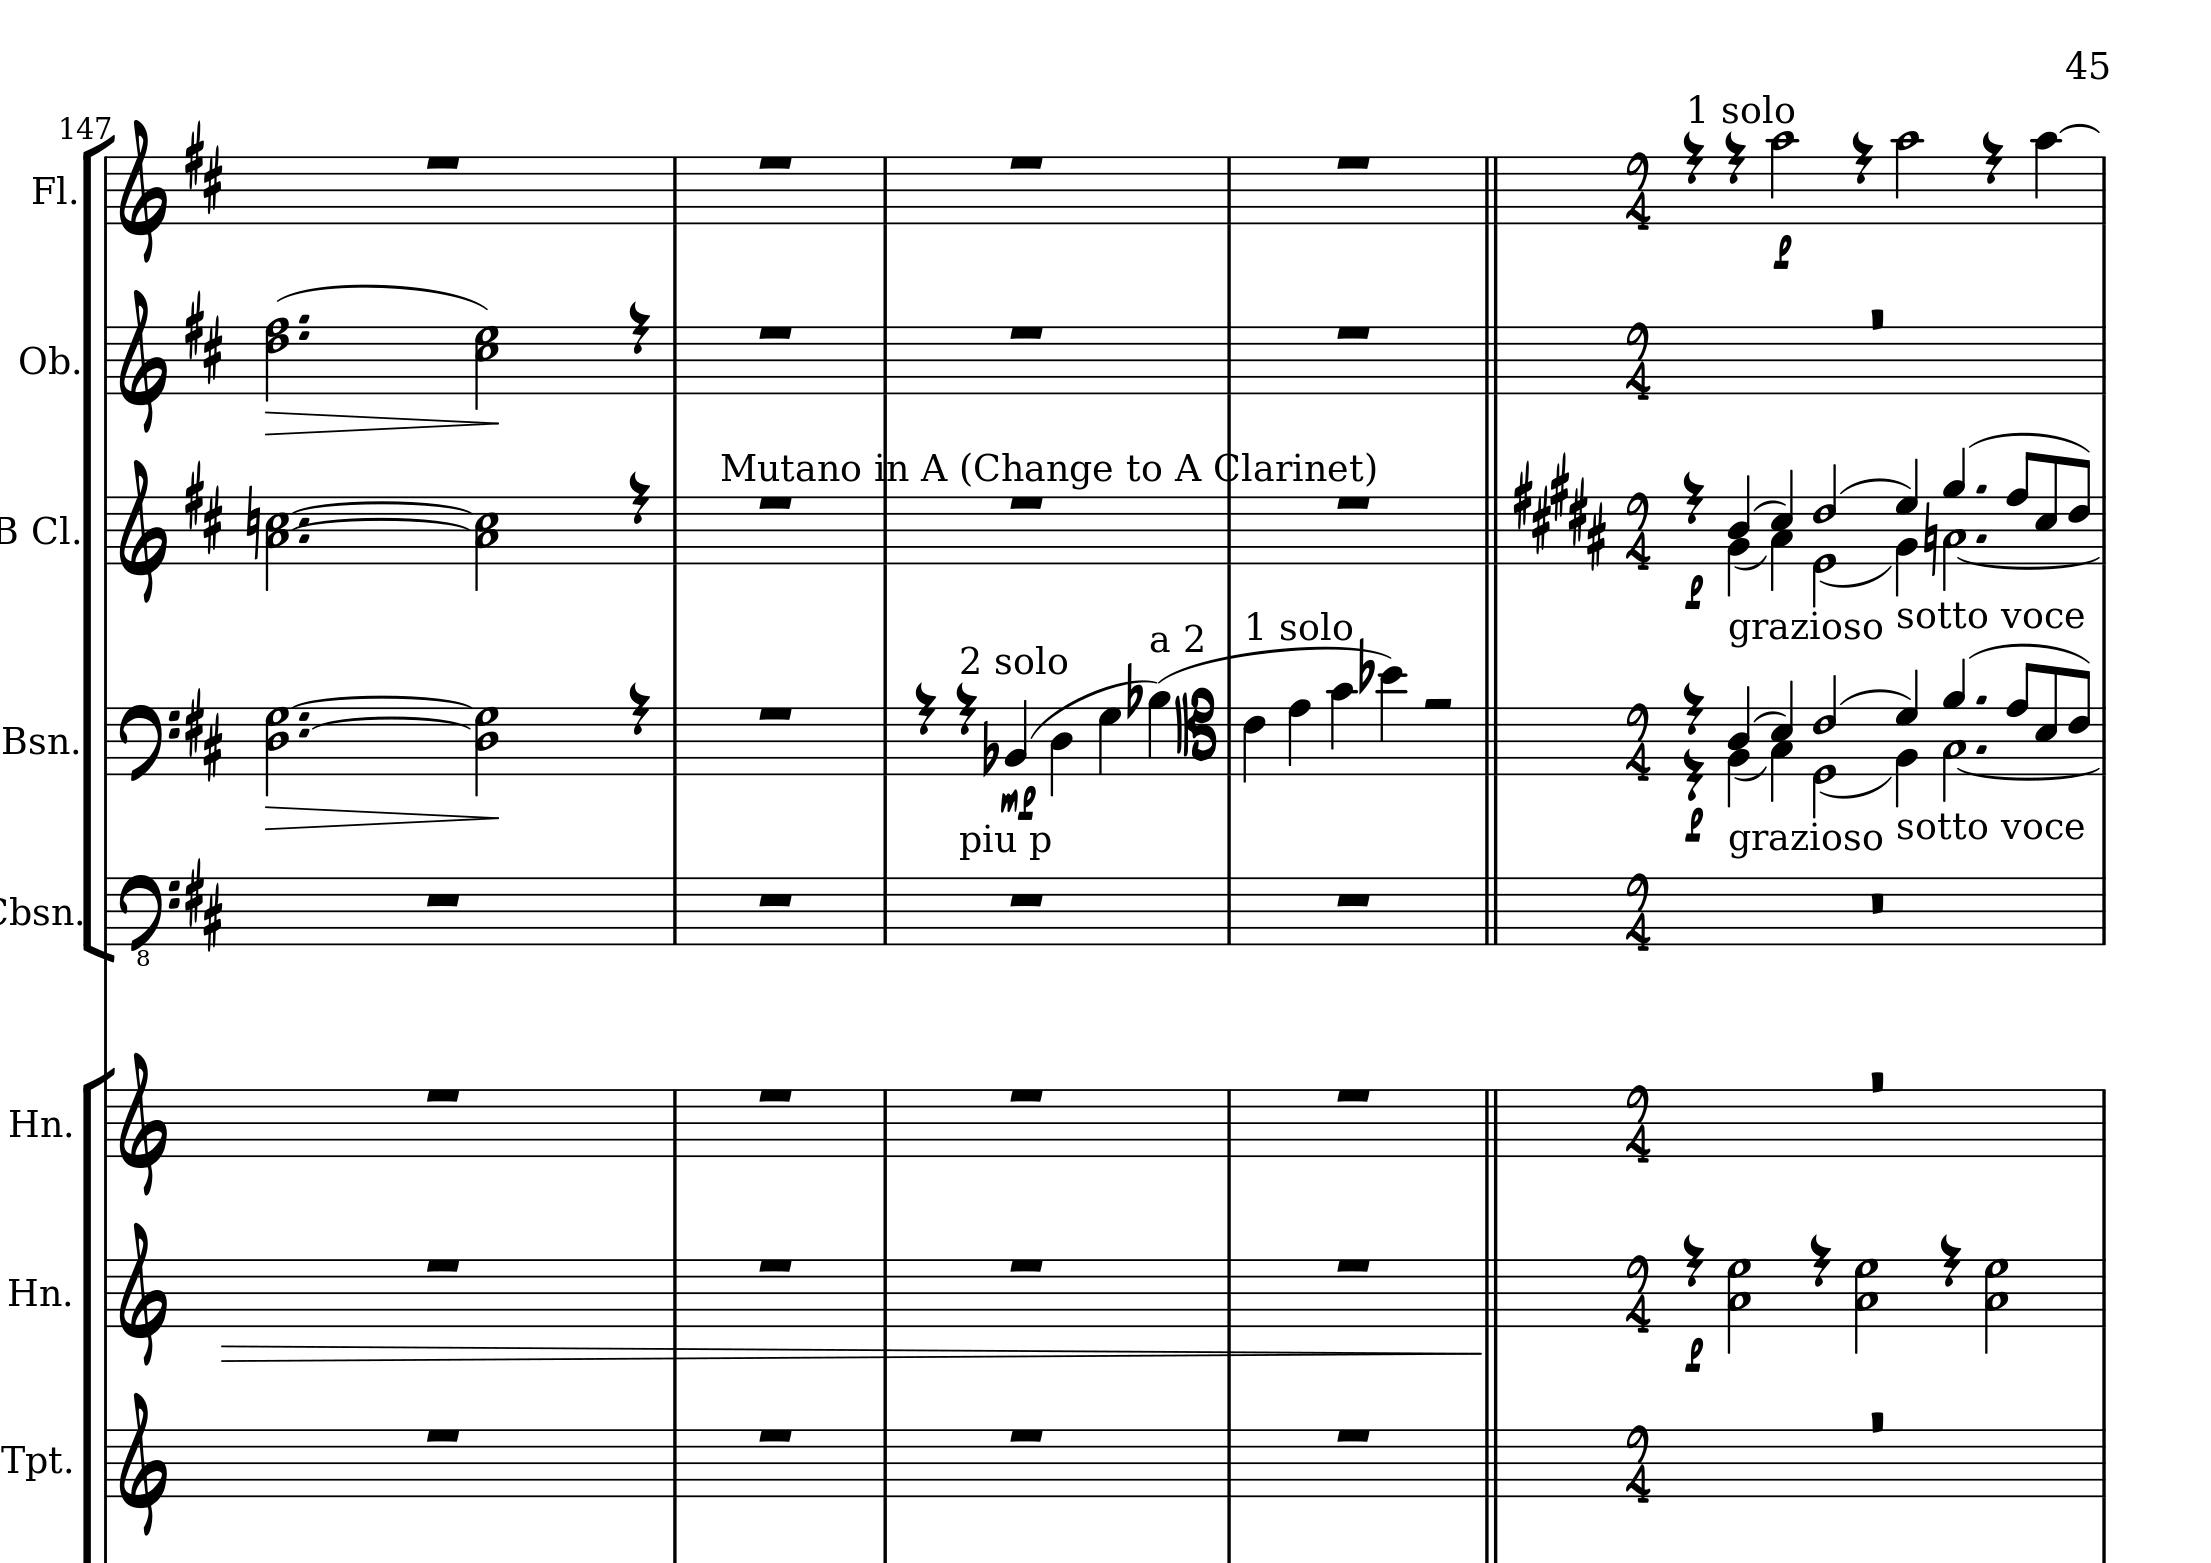1: (1687, 90, 1710, 130), (1245, 606, 1265, 643), (59, 113, 73, 140)
2_0_6: (1810, 673, 1839, 824), (1810, 463, 1839, 611)
2_10: (1766, 129, 1798, 227), (1891, 129, 1923, 227)
2_3: (1942, 492, 1967, 590)
2_3_5: (474, 496, 501, 595), (266, 494, 291, 592)
2_4_7: (474, 705, 501, 798), (264, 705, 291, 797)
2_5_7: (474, 325, 501, 409)
2_6_8: (264, 315, 289, 404)
4: (1621, 908, 1656, 951), (1624, 184, 1654, 232), (1622, 738, 1654, 781), (1622, 1460, 1654, 1504), (1624, 357, 1654, 401), (1624, 1120, 1654, 1164), (1624, 1291, 1653, 1335), (1622, 529, 1654, 568), (2066, 47, 2088, 80), (76, 113, 93, 140)
4_10: (2032, 130, 2062, 228), (1328, 682, 1355, 776)
4_12: (1377, 665, 1406, 778)
4_2: (1003, 697, 1030, 775)
4_2_4: (1725, 474, 1753, 594), (1725, 687, 1753, 807)
4_2_7: (1895, 668, 1922, 812), (1895, 458, 1918, 595)
4_3_5: (1768, 470, 1797, 594), (1769, 680, 1797, 802)
4_4: (1049, 704, 1074, 797)
4_6: (1242, 705, 1267, 783)
4_7: (1096, 705, 1122, 776)
4_8: (1286, 697, 1313, 776)
4_9: (1145, 688, 1171, 778)
5: (2089, 47, 2110, 80)
7: (95, 113, 112, 139)
8_5: (2033, 452, 2059, 563), (2033, 663, 2059, 768)
8_6: (2066, 455, 2093, 565), (2066, 665, 2093, 775)
8_8: (2005, 450, 2037, 560), (2005, 661, 2035, 761)
9: (1622, 1083, 1654, 1122), (1622, 1252, 1654, 1291), (1622, 149, 1653, 188), (1622, 699, 1653, 738), (1624, 487, 1653, 528), (1622, 320, 1653, 357), (1624, 869, 1653, 908), (1624, 1423, 1653, 1460)
B_S: (1512, 453, 1616, 577)
Bracke: (80, 130, 113, 968)
Bsn: (2, 717, 73, 765)
Cl: (30, 509, 73, 550)
D_S: (183, 118, 223, 213), (183, 288, 223, 382), (183, 854, 223, 949), (184, 687, 223, 780)
Diminuendo_hairpin: (266, 802, 501, 831), (266, 409, 497, 438)
Double_barline: (1477, 705, 1506, 775), (1477, 876, 1506, 946), (1477, 156, 1504, 223), (1477, 325, 1504, 392), (1477, 1428, 1504, 1495), (1479, 496, 1504, 563), (1479, 1088, 1504, 1155), (1479, 1259, 1504, 1326)
Fclef: (118, 702, 179, 783)
Fl: (29, 171, 69, 208)
Flat: (981, 717, 1000, 776), (1125, 660, 1142, 721), (1357, 634, 1374, 695)
Gclef: (117, 288, 169, 433), (117, 1050, 169, 1196), (117, 1390, 169, 1536), (118, 457, 169, 604), (118, 1220, 169, 1367), (117, 117, 167, 262)
Hn: (7, 1272, 63, 1309), (10, 1105, 64, 1142)
Lower_Fclef: (118, 871, 179, 968)
Natural: (244, 482, 262, 563), (1922, 499, 1939, 580)
Ob: (19, 342, 73, 381)
Rests1: (421, 1253, 465, 1277), (421, 151, 465, 173), (1005, 151, 1049, 173), (1331, 491, 1375, 513), (1005, 1253, 1049, 1275), (1331, 1253, 1375, 1275), (421, 1424, 465, 1446), (1005, 1424, 1049, 1446), (1331, 1424, 1375, 1446), (754, 151, 797, 173), (1331, 151, 1374, 173), (754, 321, 797, 343), (1005, 321, 1047, 343), (1331, 321, 1374, 343), (754, 491, 797, 513), (754, 702, 797, 724), (421, 1084, 464, 1106), (754, 1253, 797, 1275), (754, 1424, 797, 1446), (1005, 492, 1049, 513), (1331, 1084, 1375, 1105), (421, 890, 464, 910), (754, 890, 797, 910), (754, 1084, 797, 1105), (1005, 1084, 1047, 1105), (1005, 890, 1047, 908), (1331, 890, 1374, 908)
Rests2: (1421, 692, 1457, 714)
Rests4: (1807, 1231, 1834, 1289), (1680, 469, 1705, 528), (1680, 129, 1705, 186), (1849, 129, 1874, 186), (1979, 129, 2005, 186), (912, 680, 937, 738), (952, 680, 978, 738), (1680, 1231, 1705, 1289), (1937, 1231, 1962, 1289), (1722, 130, 1747, 186), (1680, 682, 1705, 738), (628, 469, 651, 528), (628, 299, 651, 355), (628, 682, 651, 738), (1682, 746, 1705, 802)
Single_barline: (875, 492, 897, 563), (875, 705, 897, 773), (875, 1259, 897, 1326), (875, 156, 897, 222), (875, 326, 897, 392), (1218, 1259, 1240, 1324), (875, 1429, 897, 1495), (1220, 496, 1240, 563), (875, 876, 895, 944), (665, 1259, 685, 1326), (665, 326, 685, 392), (665, 496, 685, 562), (665, 707, 685, 773), (665, 1429, 685, 1495), (1220, 1429, 1240, 1495), (1220, 705, 1238, 775), (1220, 156, 1238, 223), (1220, 876, 1238, 944), (1220, 326, 1238, 392), (665, 1089, 683, 1155), (876, 1089, 895, 1155), (1220, 1089, 1238, 1155), (2093, 1259, 2111, 1324), (2093, 1429, 2111, 1495), (667, 157, 685, 222), (667, 876, 683, 944), (2094, 876, 2111, 944), (98, 1259, 115, 1326), (98, 1428, 115, 1495), (2094, 156, 2111, 222), (2094, 326, 2111, 392), (98, 707, 115, 773), (2094, 1089, 2111, 1155), (98, 878, 113, 947), (98, 496, 113, 563), (100, 1088, 115, 1155), (98, 157, 113, 223), (98, 326, 113, 392), (2096, 496, 2111, 562), (2096, 707, 2111, 771)
Slur: (277, 284, 491, 311), (311, 714, 470, 732), (1966, 430, 2088, 452), (291, 516, 465, 531), (1966, 641, 2093, 661), (289, 694, 467, 707), (1957, 765, 2098, 781), (1961, 555, 2099, 570), (291, 501, 469, 513), (1819, 563, 1895, 589), (1819, 775, 1895, 798), (1839, 477, 1912, 494), (1839, 688, 1912, 705), (1734, 555, 1768, 572), (1734, 765, 1768, 781), (1753, 497, 1785, 513), (2059, 122, 2099, 134), (1753, 709, 1785, 722)
Solo: (1281, 606, 1353, 643), (995, 639, 1067, 677), (1719, 91, 1797, 123), (1176, 621, 1208, 651), (956, 643, 981, 673)
Tensor_Cclef: (1172, 687, 1218, 778)
TimeSig: (1622, 1083, 1653, 1165), (1622, 151, 1653, 232), (1622, 320, 1653, 401), (1622, 491, 1653, 572), (1622, 871, 1653, 952), (1622, 1253, 1653, 1335), (1622, 1424, 1653, 1504), (1624, 700, 1653, 781)
Tpt: (2, 1440, 63, 1482)
dot: (1972, 690, 1989, 707), (1974, 480, 1989, 496), (1974, 529, 1989, 545), (1974, 739, 1989, 754), (298, 310, 311, 326), (298, 325, 311, 342)
mp: (1000, 783, 1039, 819)
p: (1769, 233, 1795, 272), (1682, 572, 1705, 611), (1682, 1336, 1705, 1374), (1683, 805, 1705, 844)
